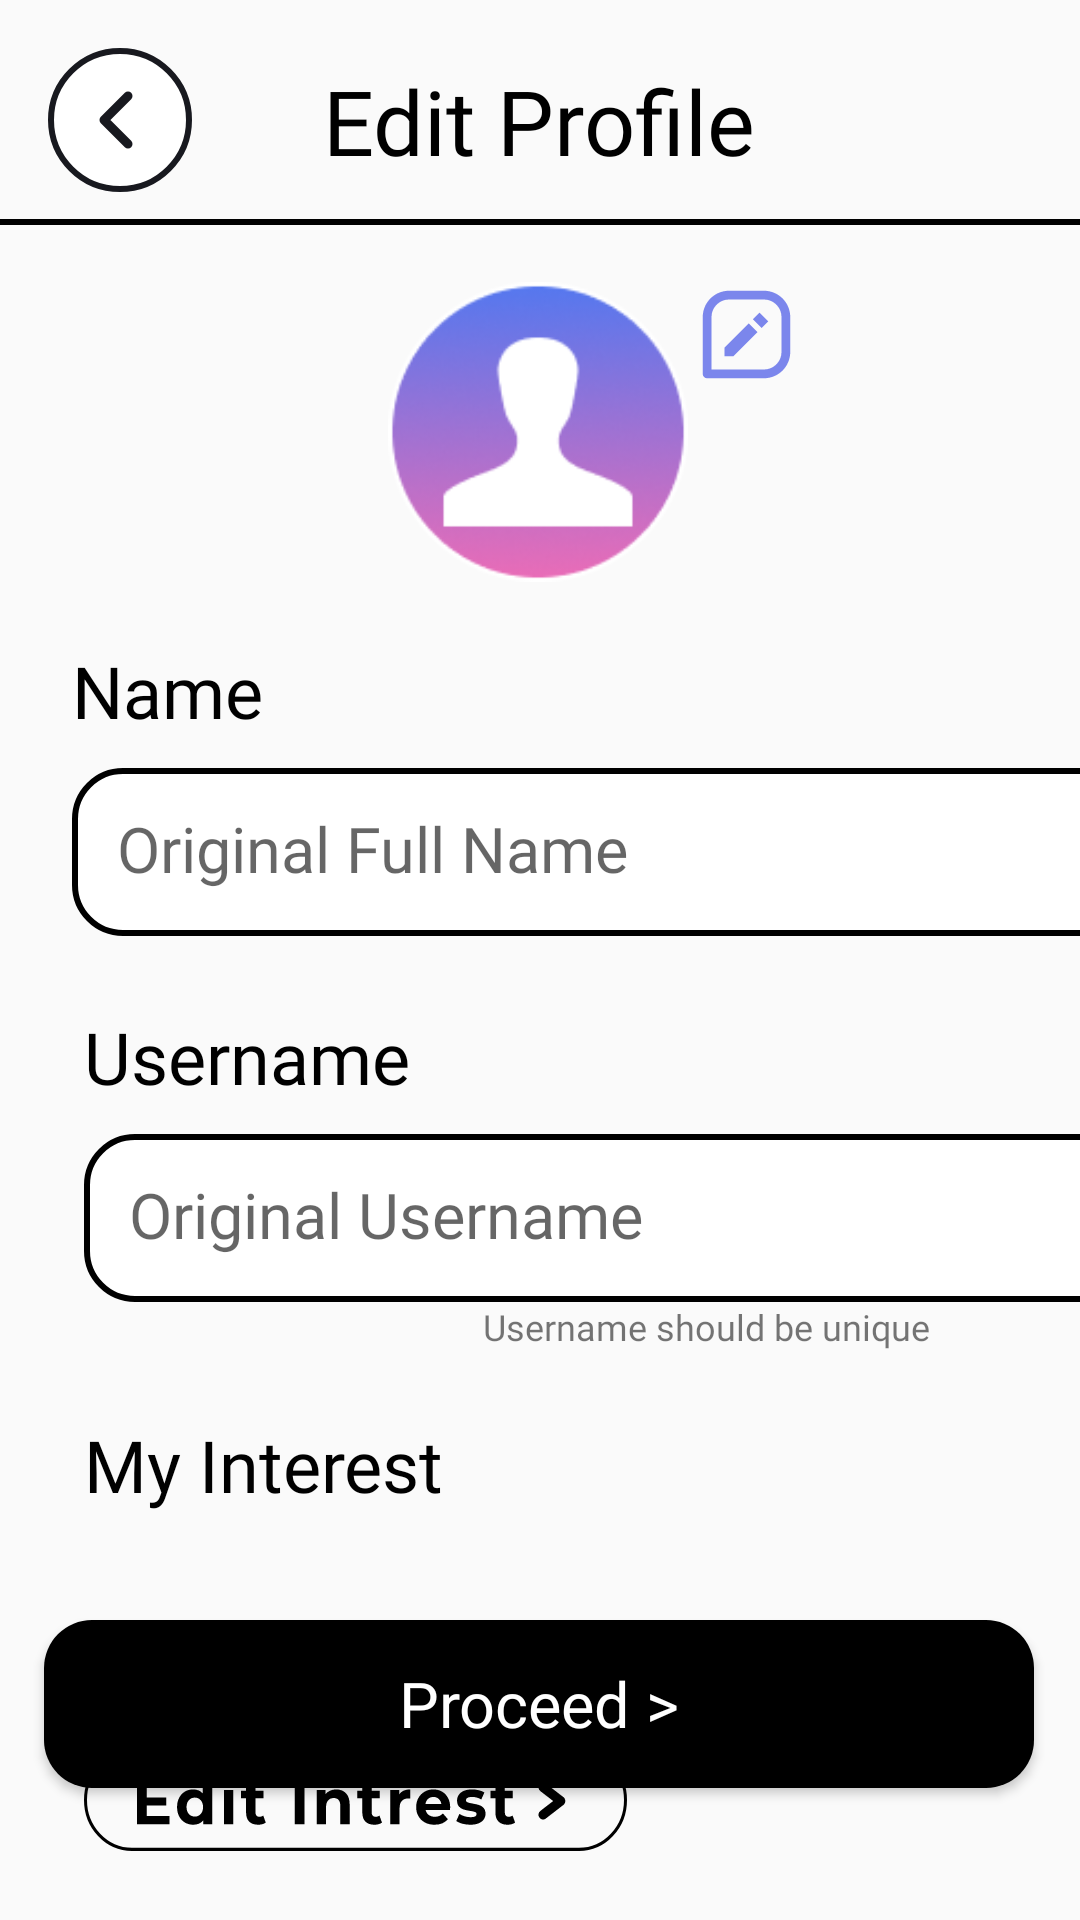

Screen size 1080*1920. Icon name, then its box in pixels as [x1, y1, x2, y2]:
defuserimg: [392, 286, 684, 578]
